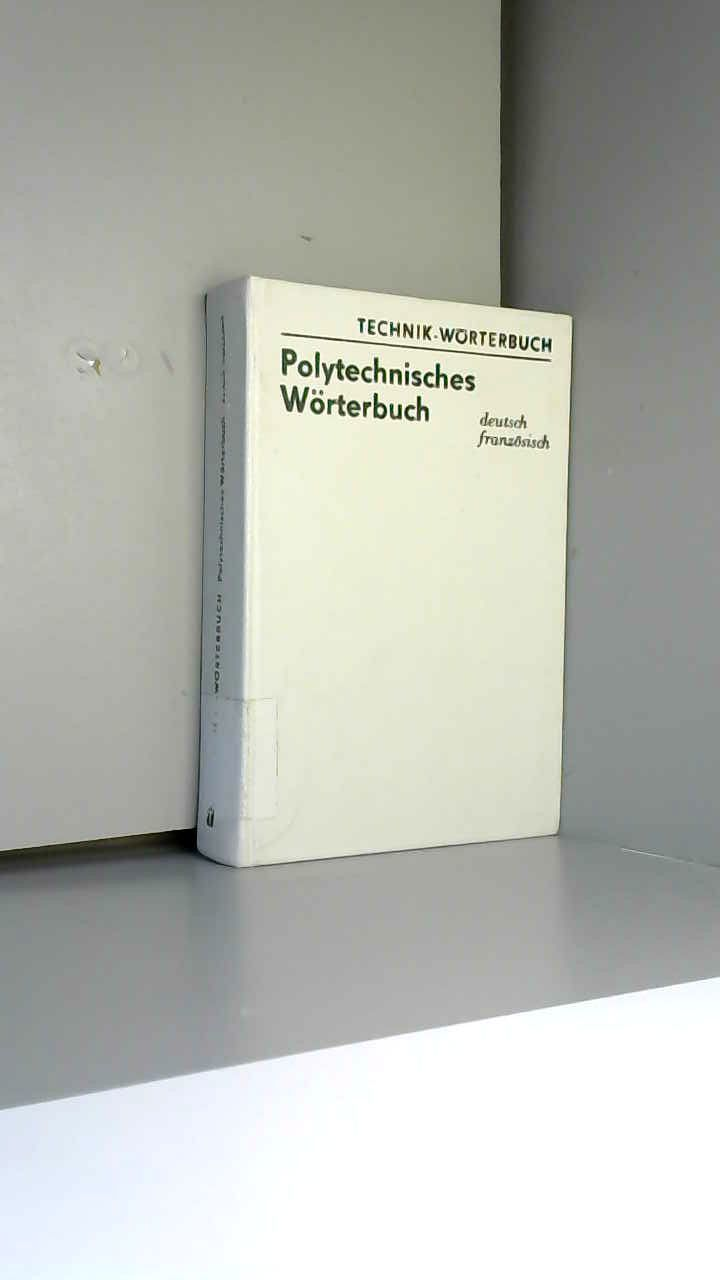book: (168, 248, 606, 908)
